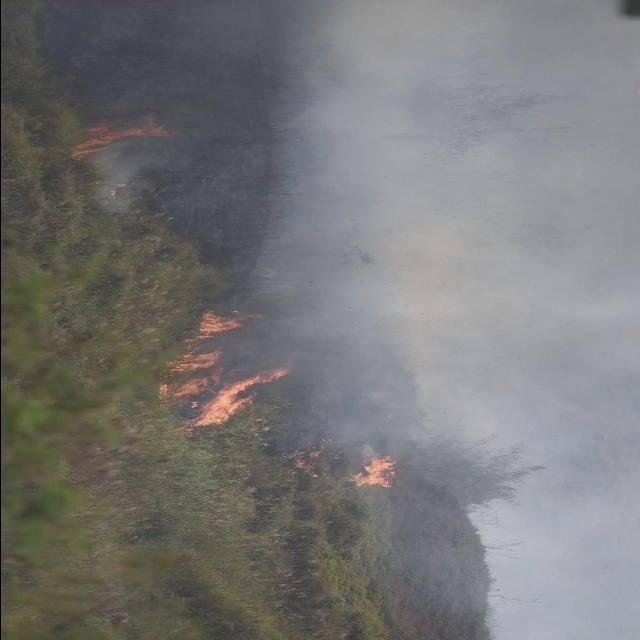Fire: (199, 370, 291, 426), (82, 115, 175, 160), (157, 350, 221, 400), (189, 306, 257, 338), (354, 458, 394, 488)
